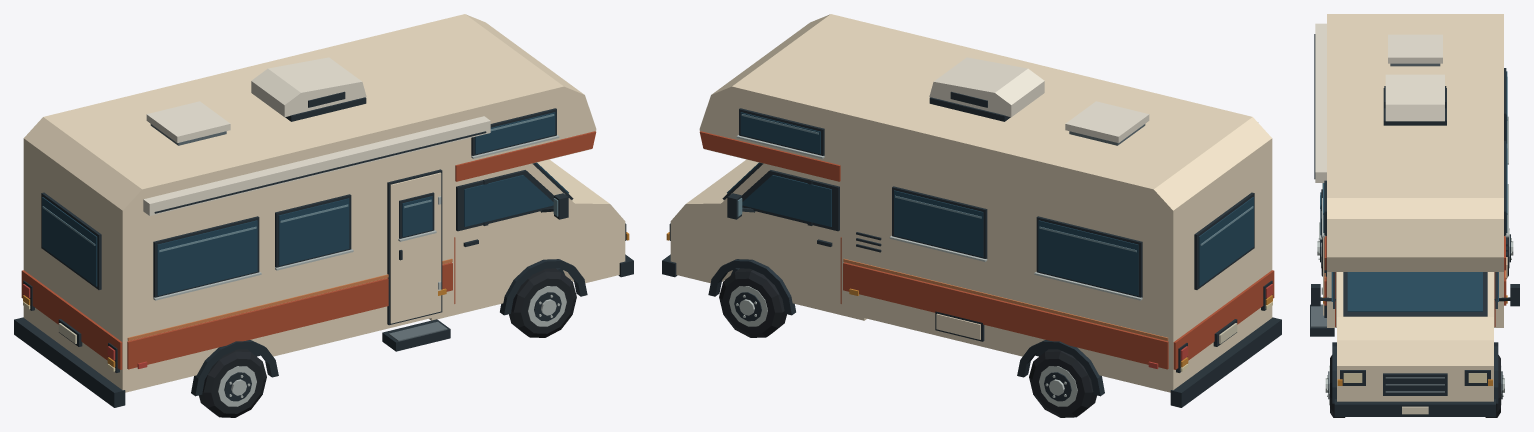
The model's file is 02_sundrift_overcab.glb.
The picture shows the model from 3 angles, left to right: view 1: azimuth 30°, elevation 25°; view 2: azimuth 150°, elevation 25°; view 3: azimuth 270°, elevation 25°; orthographic projection. The views are drawn at different scales.
Visible parts, largest first — view 1: Living_body_and_overcab_loft, Truck_cab, Lower_colour_belt_right, Awning_cassette, Habitation_entry_panel, Rear_lounge_window_right_glass, Roof_aircon_cover, Dinette_window_glass, Cab_side_window_right_glass, Rear_window_glass, Rear_bumper, Rear_colour_belt (+20 smaller); view 2: Living_body_and_overcab_loft, Truck_cab, Lower_colour_belt_left, Rear_lounge_window_left_glass, Roof_aircon_cover, Kitchen_window_glass, Cab_side_window_left_glass, Rear_window_glass, Rear_bumper, Rear_colour_belt, Overcab_colour_left, Front_wheel_left_tire (+15 smaller); view 3: Living_body_and_overcab_loft, Truck_cab, Front_windshield_glass, Roof_aircon_cover, Front_bumper, Awning_cassette, Roof_vent_lid, Radiator_grille, Front_windshield_frame, Roof_aircon_base, Entry_step_tread, Front_wheel_arch_left (+11 smaller).
Boxes of the visible parts, x1=… form: Living_body_and_overcab_loft: x1=23, y1=14, x2=596, y2=392; Truck_cab: x1=429, y1=159, x2=625, y2=320; Lower_colour_belt_right: x1=127, y1=262, x2=452, y2=369; Awning_cassette: x1=143, y1=116, x2=490, y2=215; Habitation_entry_panel: x1=390, y1=172, x2=441, y2=323; Rear_lounge_window_right_glass: x1=157, y1=220, x2=257, y2=295; Roof_aircon_cover: x1=251, y1=57, x2=366, y2=117; Dinette_window_glass: x1=278, y1=198, x2=349, y2=265; Cab_side_window_right_glass: x1=464, y1=175, x2=553, y2=226; Rear_window_glass: x1=42, y1=197, x2=97, y2=286; Rear_bumper: x1=14, y1=317, x2=125, y2=407; Rear_colour_belt: x1=21, y1=270, x2=122, y2=369; Living_body_and_overcab_loft: x1=699, y1=14, x2=1272, y2=392; Truck_cab: x1=670, y1=159, x2=866, y2=320; Lower_colour_belt_left: x1=843, y1=262, x2=1168, y2=369; Rear_lounge_window_left_glass: x1=1038, y1=220, x2=1138, y2=295; Roof_aircon_cover: x1=929, y1=57, x2=1044, y2=117; Kitchen_window_glass: x1=894, y1=190, x2=983, y2=257; Cab_side_window_left_glass: x1=742, y1=175, x2=831, y2=226; Rear_window_glass: x1=1198, y1=197, x2=1253, y2=286; Rear_bumper: x1=1170, y1=317, x2=1281, y2=407; Rear_colour_belt: x1=1173, y1=270, x2=1274, y2=369; Overcab_colour_left: x1=699, y1=131, x2=840, y2=181; Front_wheel_left_tire: x1=719, y1=268, x2=786, y2=337; Living_body_and_overcab_loft: x1=1327, y1=14, x2=1503, y2=327; Truck_cab: x1=1337, y1=272, x2=1493, y2=401; Front_windshield_glass: x1=1347, y1=272, x2=1482, y2=311; Roof_aircon_cover: x1=1385, y1=74, x2=1444, y2=121; Front_bumper: x1=1334, y1=399, x2=1495, y2=416; Awning_cassette: x1=1315, y1=23, x2=1326, y2=182; Roof_vent_lid: x1=1388, y1=34, x2=1442, y2=63; Radiator_grille: x1=1383, y1=373, x2=1447, y2=395; Front_windshield_frame: x1=1343, y1=272, x2=1487, y2=316; Roof_aircon_base: x1=1383, y1=88, x2=1446, y2=125; Entry_step_tread: x1=1311, y1=305, x2=1326, y2=327; Front_wheel_arch_left: x1=1494, y1=342, x2=1498, y2=403.
Size of the model in its own units: 7.29 by 3.66 by 2.82.
